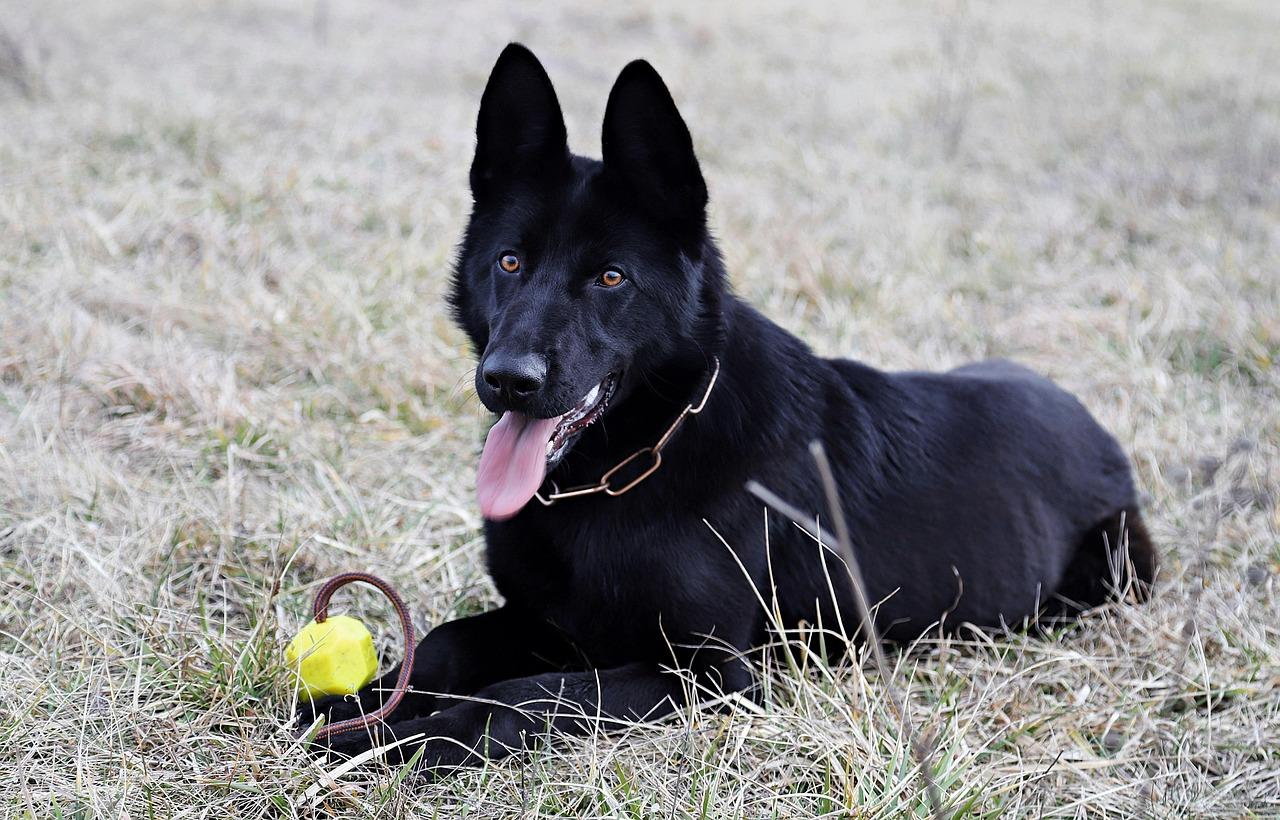german_shepherd: (419, 83, 734, 491)
